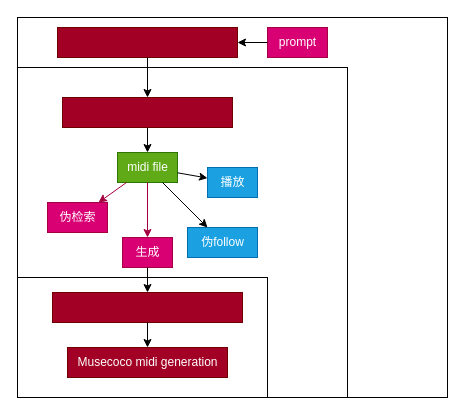
The diagram is 465 pixels wide and 415 high, and some of its shapes have lost their labels. Each missing label, with the box of its shape:
ChatPiano Tools API expose: (62, 96, 232, 128)
Musecoco Service API expose: (52, 292, 242, 322)
OpenaiAPI Official realtime UI: (56, 26, 238, 58)
